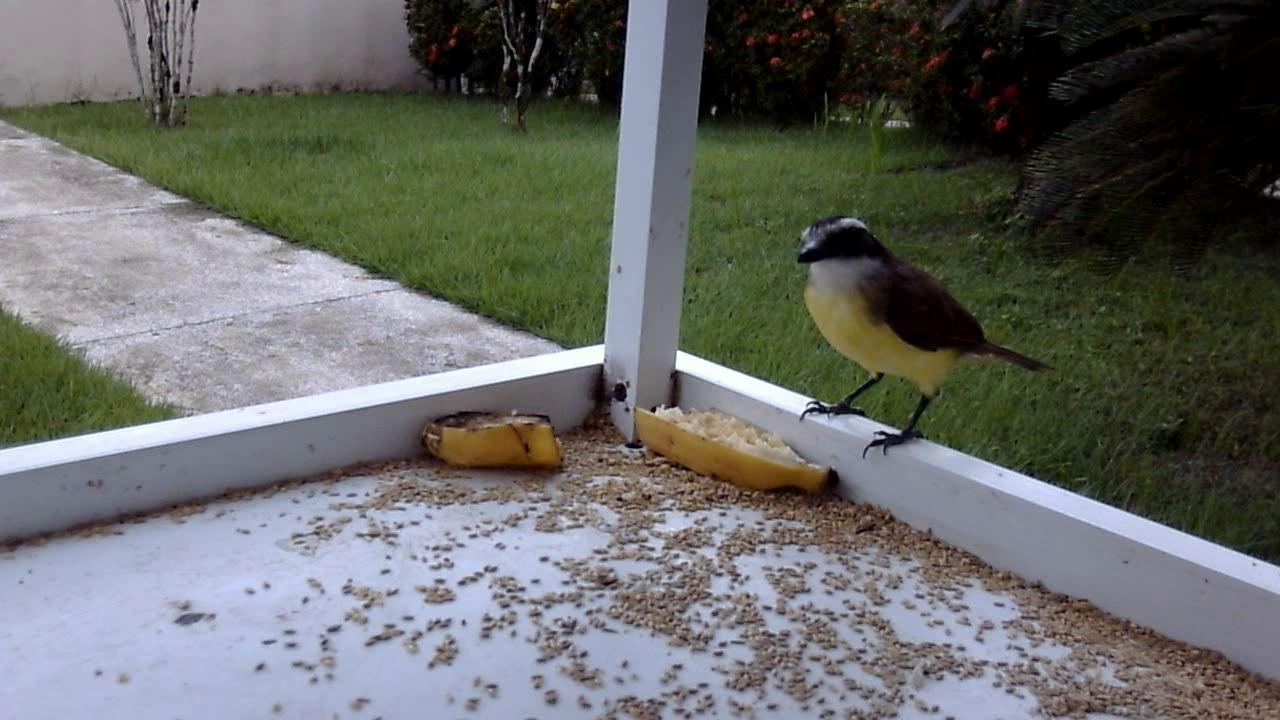bem_te_vi: (778, 205, 1055, 481)
